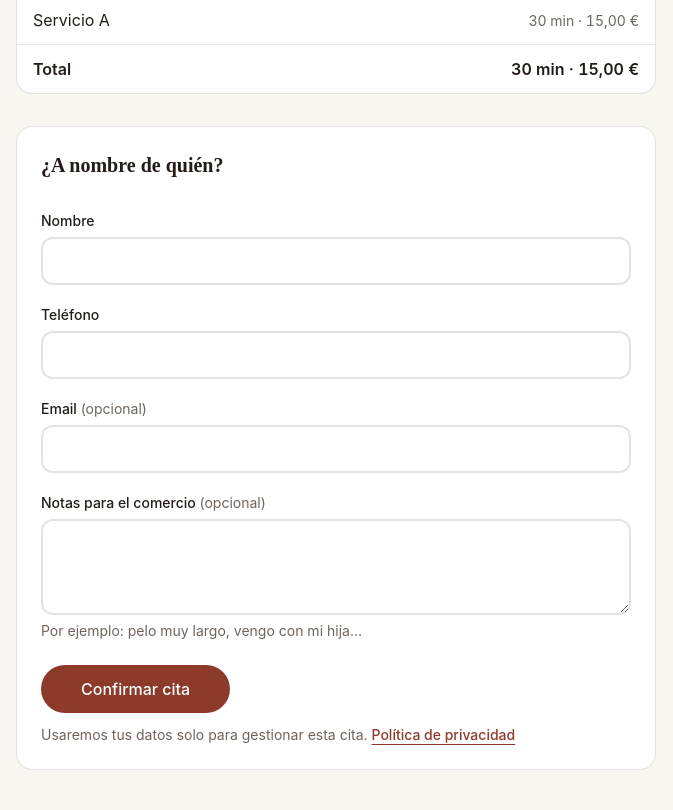
Test case: Paso 3: confirmar la cita › no envía si faltan datos y marca los campos
The image size is (673, 810).
(page scrolled)
Check: the field labelled "Nombre" is shown, box [41,237,631,285]
Click the button "Confirmar cita". click: click(136, 689)
box: [41,665,230,713]
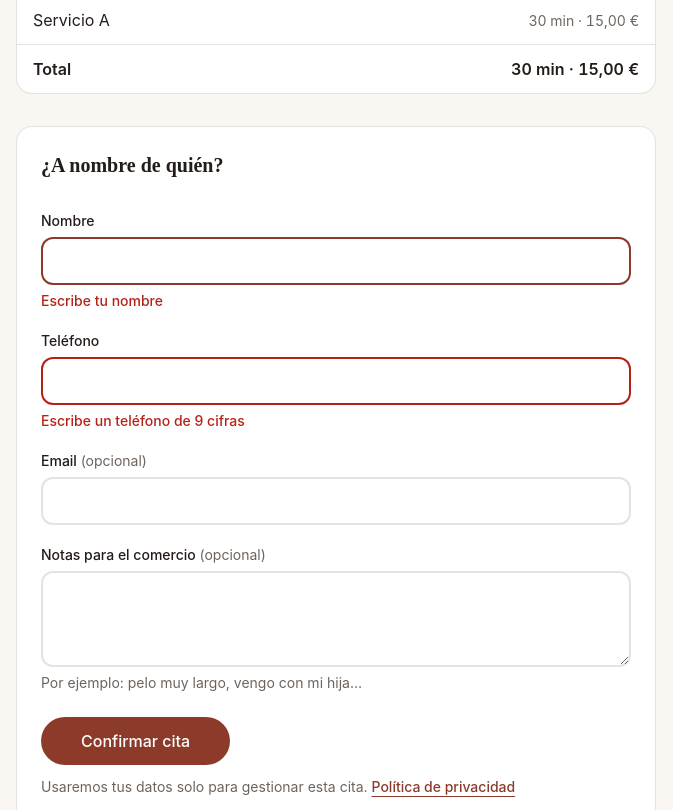
Check: the text "Escribe tu nombre" is shown, box [41,292,163,309]
Check: the text "Escribe un teléfono de 9 cifras" is shown, box [41,412,245,429]
